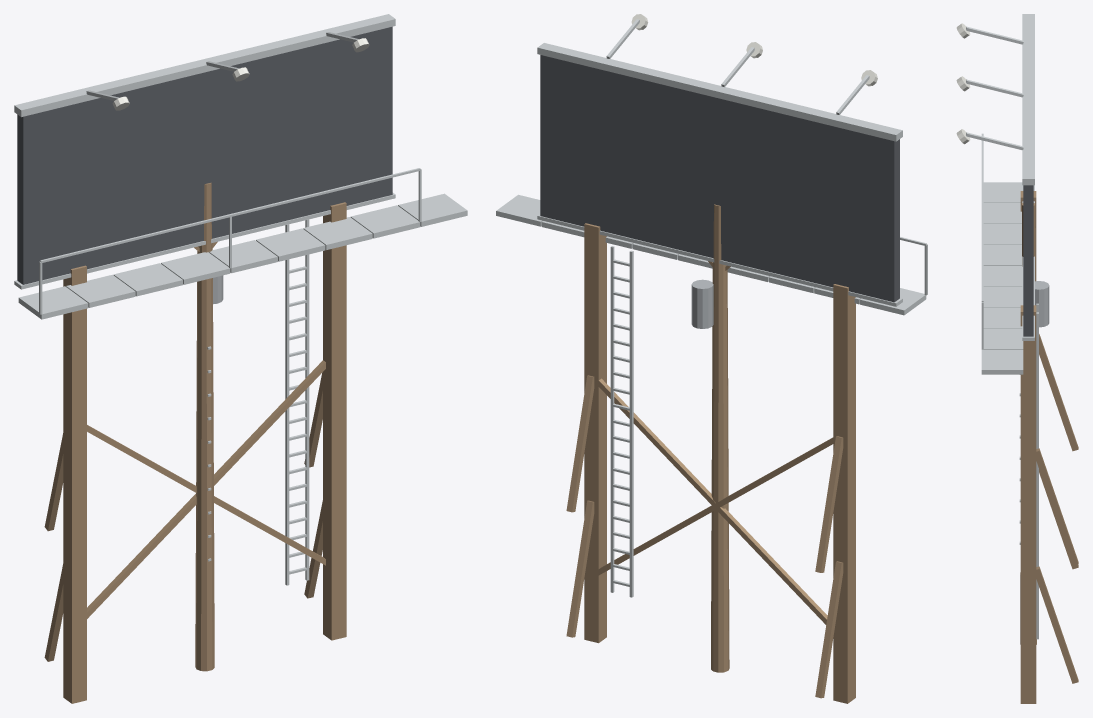
The model's file is roadside2.glb.
3 renders of one model, left to right at view 1: azimuth 30°, elevation 25°; view 2: azimuth 150°, elevation 25°; view 3: azimuth 270°, elevation 25°, orthographic. The views are drawn at different scales.
Visible parts, largest first — view 1: rb_billboard_mesh, rb_pole_mesh; view 2: rb_billboard_mesh, rb_pole_mesh; view 3: rb_billboard_mesh, rb_pole_mesh.
Boxes of the visible parts, x1,y1,x2,y2 form: rb_billboard_mesh: (14,14,467,703); rb_pole_mesh: (194,182,223,671); rb_billboard_mesh: (496,14,927,703); rb_pole_mesh: (691,204,730,672); rb_billboard_mesh: (956,14,1078,703); rb_pole_mesh: (1019,203,1049,644).
Size of the model in its own units: 8.56 by 12 by 2.34.
